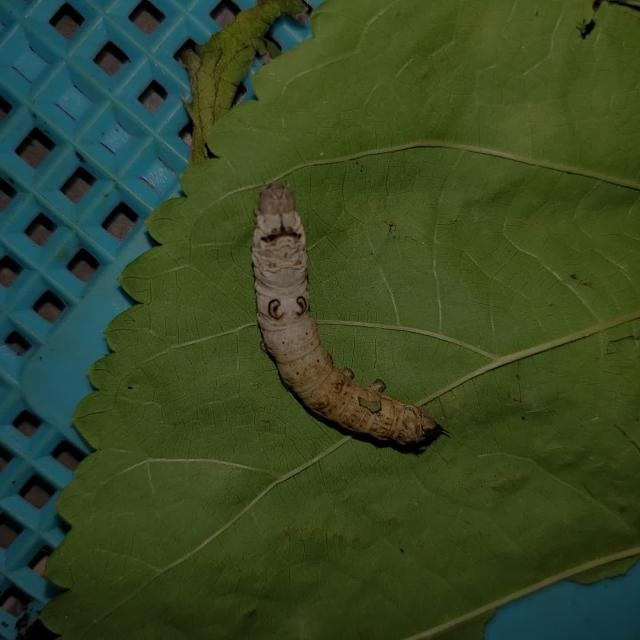Grasserie: (231, 170, 456, 466)
